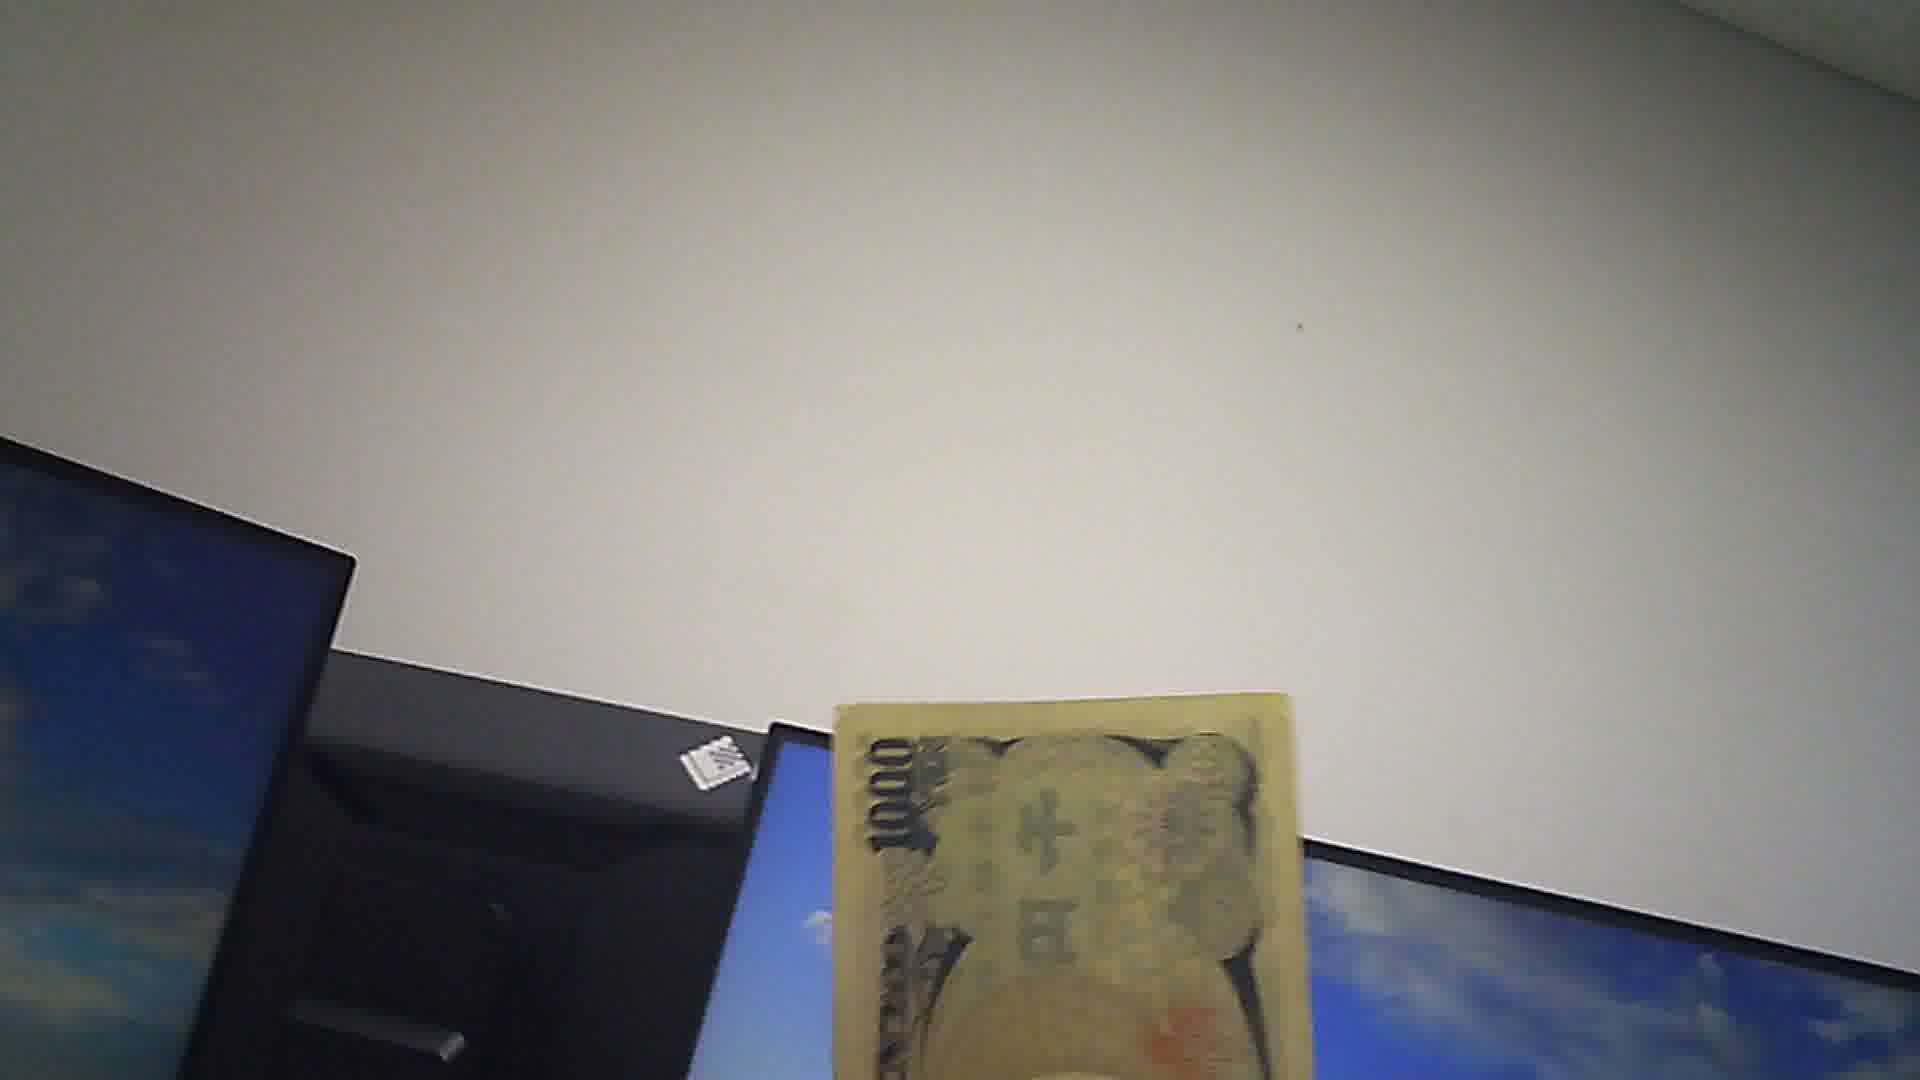1,000 Yen: (812, 696, 1328, 1069)
